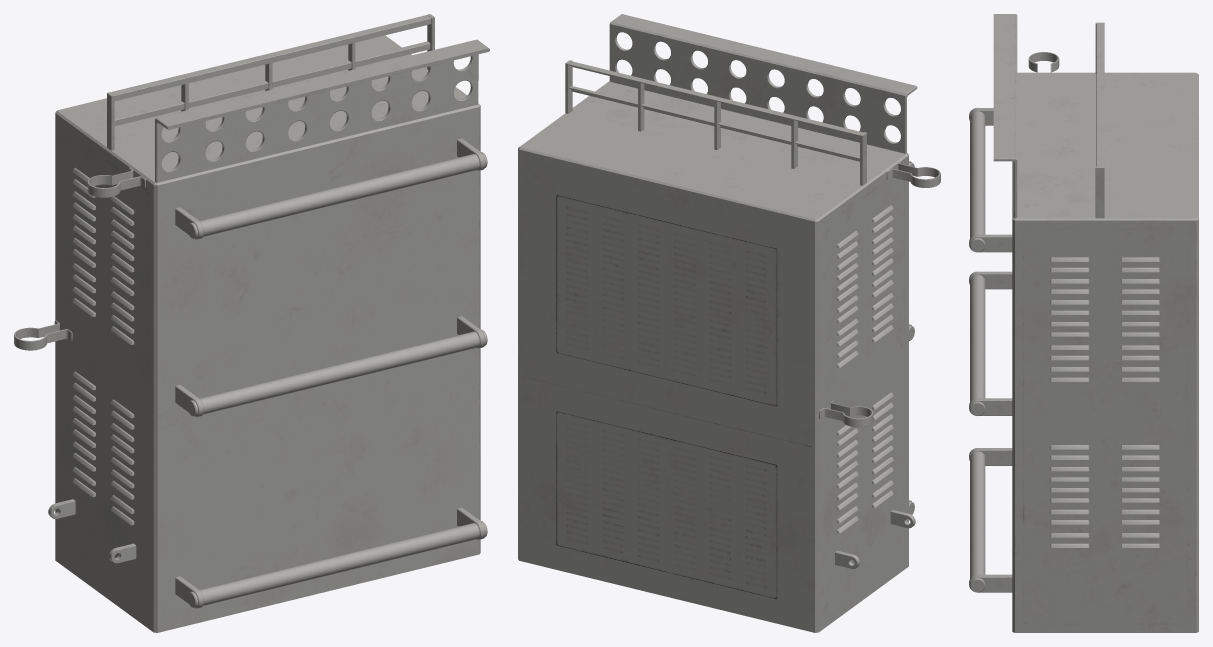
The model's file is L_guizi_01.FBX.
3 views of the same model, side by side, from view 1: azimuth 30°, elevation 25°; view 2: azimuth 150°, elevation 25°; view 3: azimuth 270°, elevation 25° (orthographic). The views are drawn at different scales.
Visible parts, largest first — view 1: L_guizi; view 2: L_guizi; view 3: L_guizi.
Part boxes in pixels (x1,y1,x2,y2): L_guizi: (14, 14, 489, 632); L_guizi: (518, 14, 940, 632); L_guizi: (969, 14, 1198, 632).
Bounding box in the file's own units: 1.16 × 1.51 × 0.6638.
